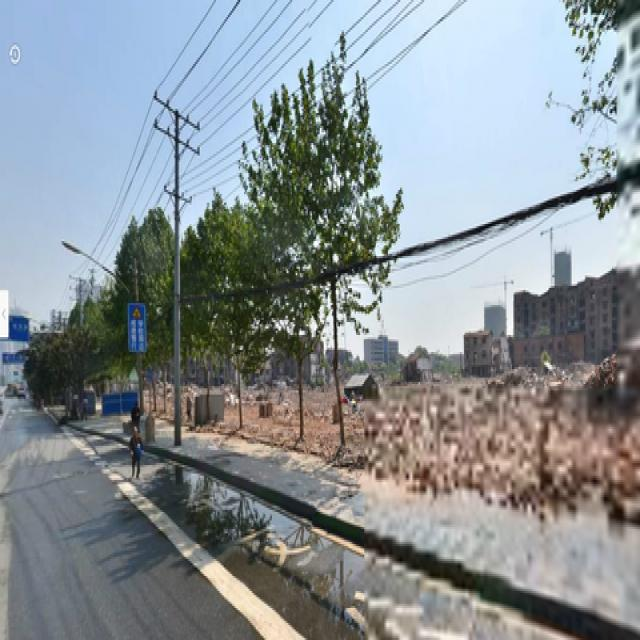meta: (299, 90, 377, 442)
